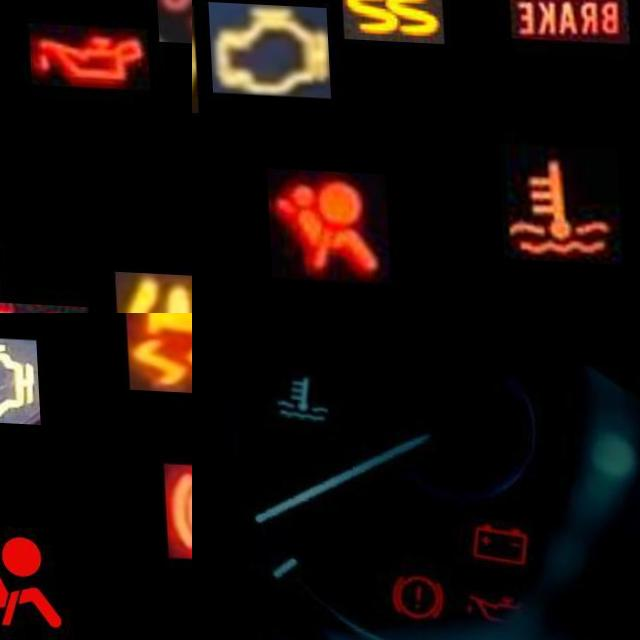Engine cooling system: (494, 139, 616, 259), (259, 348, 346, 436)
